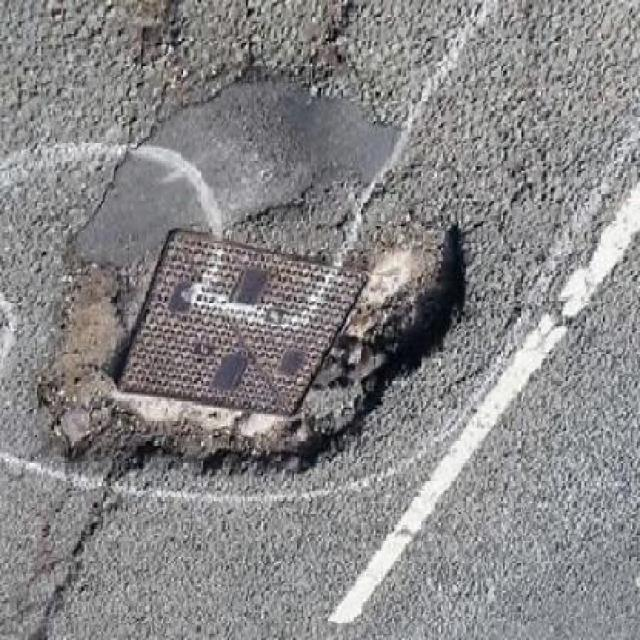pothole1: (30, 219, 470, 487)
